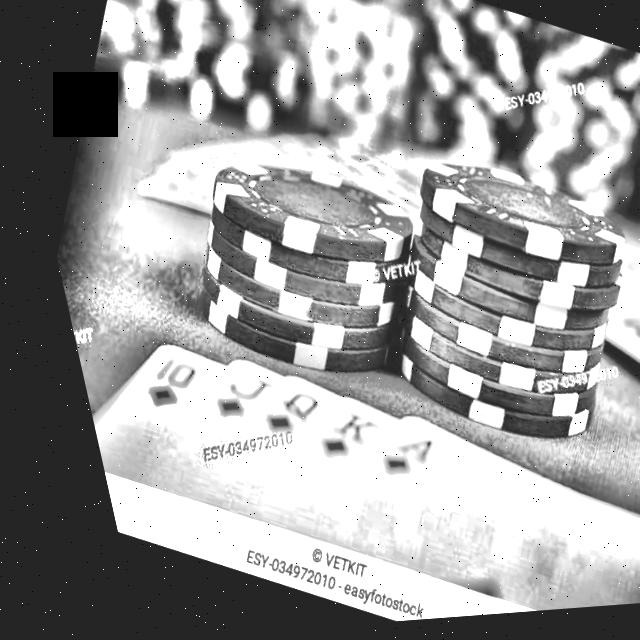Chip: (301, 126, 640, 491), (125, 118, 454, 415)
